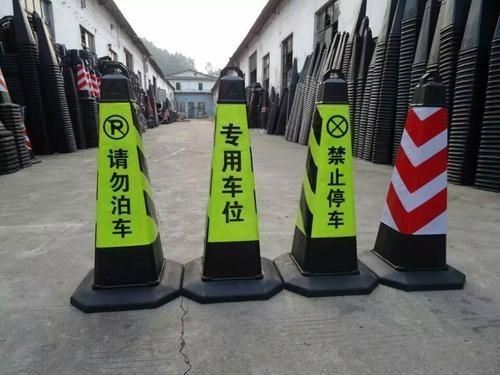cone_barrel: (78, 59, 175, 299), (360, 76, 463, 281), (274, 69, 370, 283), (186, 66, 271, 289)
